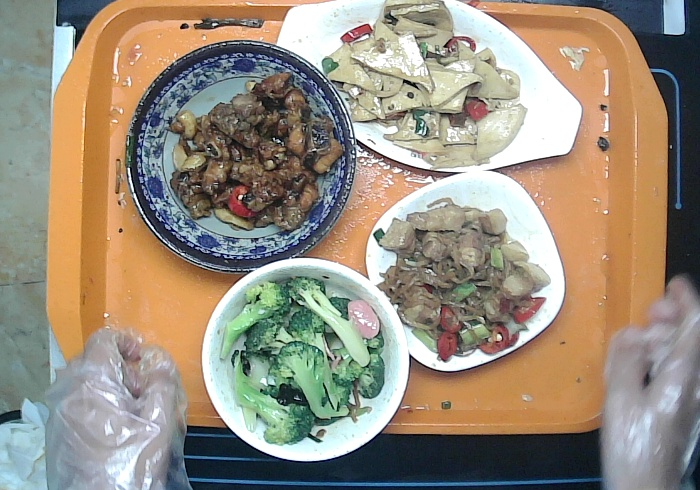ZNLD-Qing_Hua_Wan: (125, 36, 360, 273)
ZNLD-Si_Fang_Wan: (365, 166, 566, 373)
ZNLD-Tang_Wan: (199, 256, 409, 463)
ZNLD-Yu_Pan: (279, 1, 582, 176)
